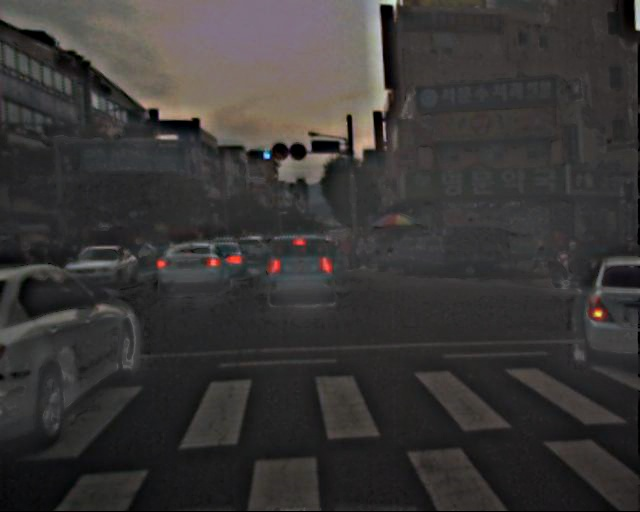person: (344, 235, 401, 274), (562, 235, 584, 288), (550, 225, 569, 272), (530, 229, 547, 270)
